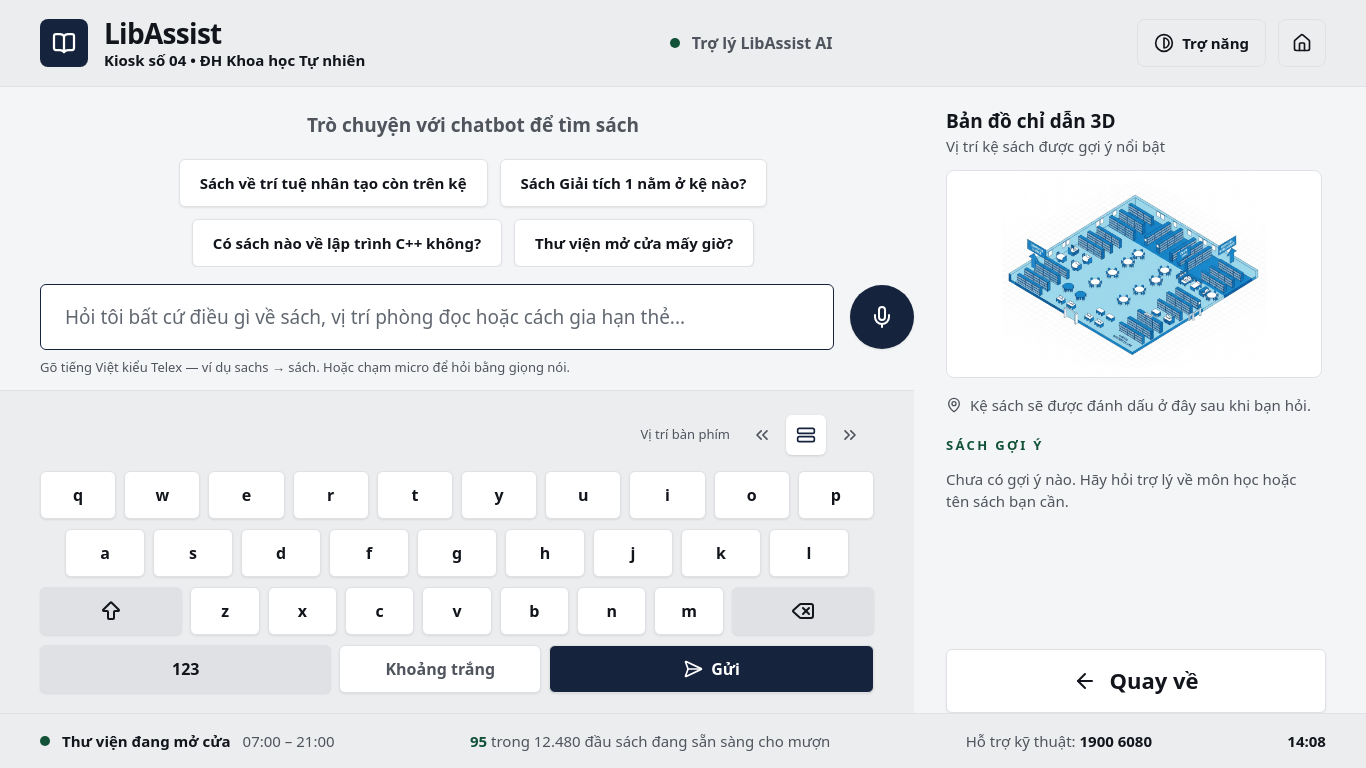
Test: AI chat — asking a question › answers a tapped starter and keeps both turns in the transcript
The width and height of the screenshot is (1366, 768).
(page scrolled)
Click the button "Thư viện mở cửa mấy giờ?".
click(634, 243)  # box x1=514 y1=219 x2=754 y2=267
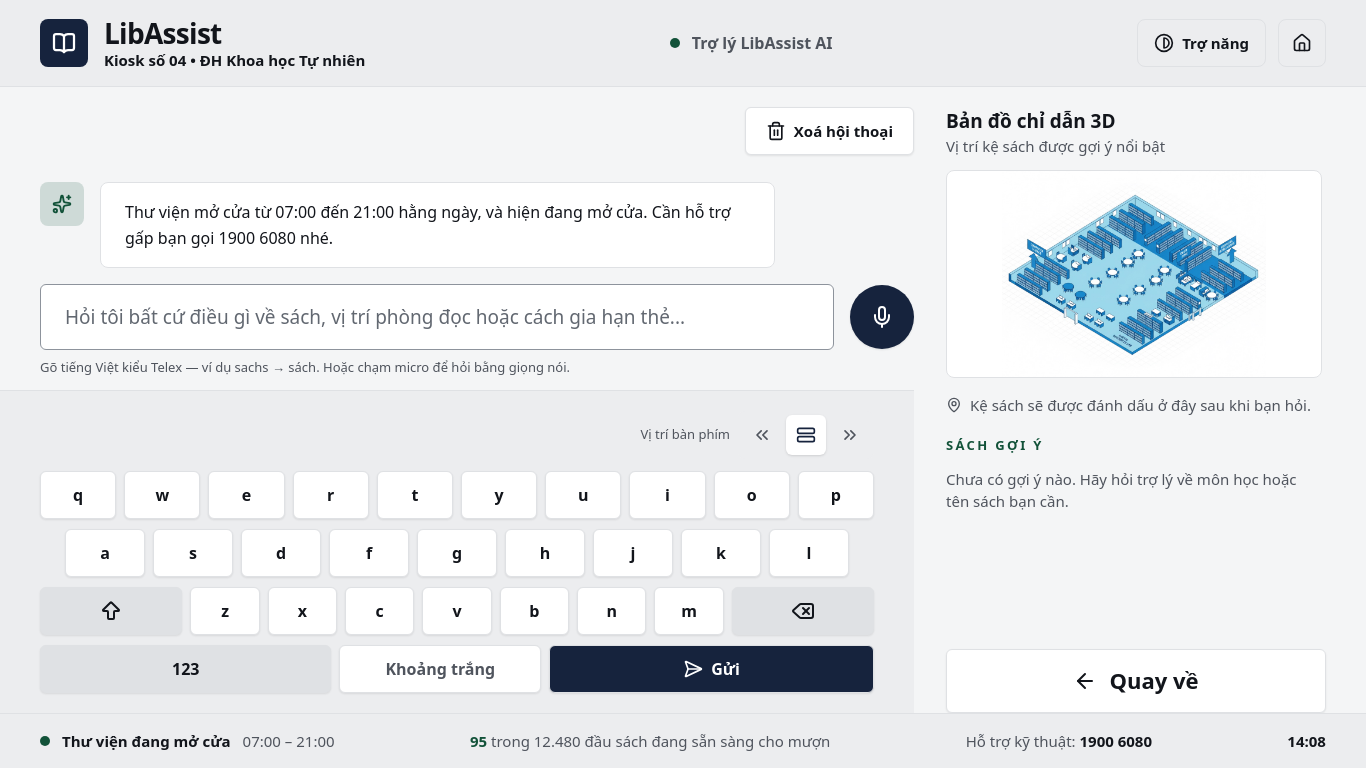
Check: the text "Cần hỗ trợ gấp" shows "07:00", box x1=125 y1=201 x2=731 y2=249
